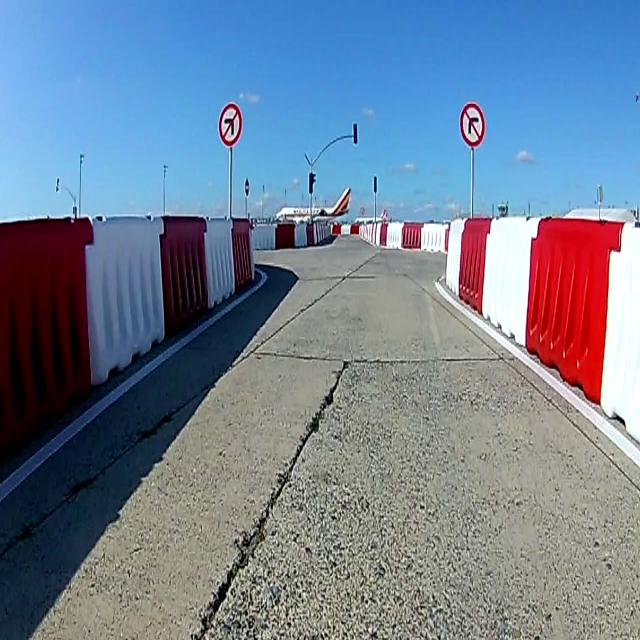sagadonulmez: (459, 100, 485, 150)
soladonulmez: (220, 103, 240, 148)
